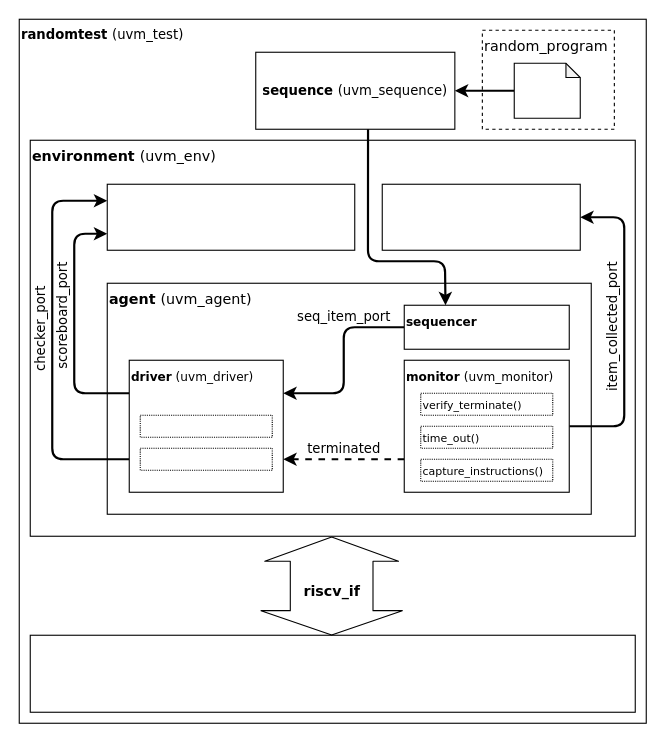
Image size: 666x743. Some labels were removed from this diagram. Each missing label, with the centre of its shape:
"code.txt" goes at pixel 546 90.
"coverage (uvm_subscriber)" goes at pixel 480 216.
"dut_top riscv" goes at pixel 332 673.
"memory_interface(boot)" goes at pixel 205 458.
"memory_interface(req)" goes at pixel 205 425.
"scoreboard (uvm_scoreboard)" goes at pixel 230 216.
